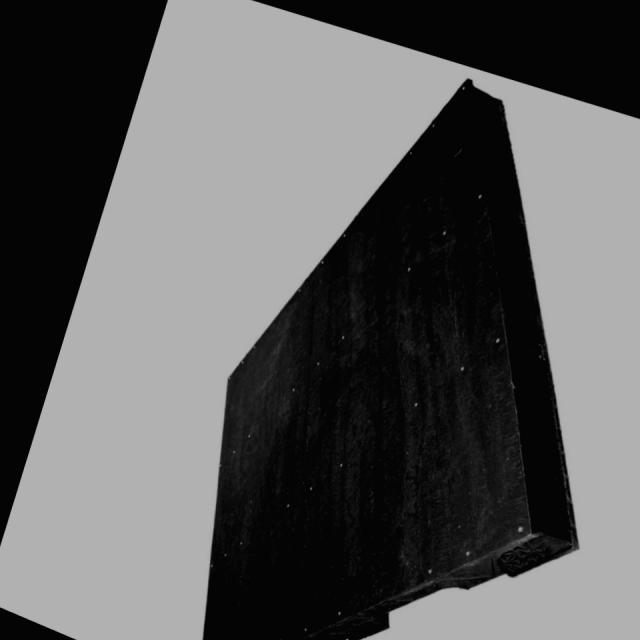non-igps: (172, 70, 586, 640)
